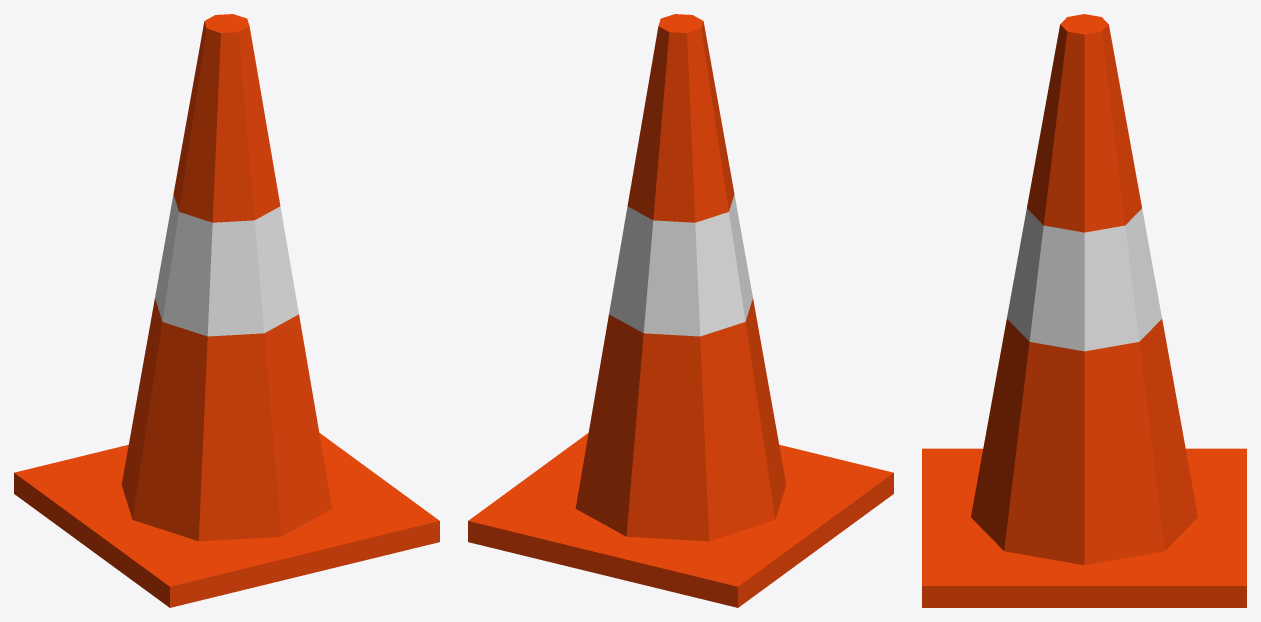
3 renders of one model, left to right at view 1: azimuth 30°, elevation 25°; view 2: azimuth 150°, elevation 25°; view 3: azimuth 270°, elevation 25°, orthographic. The views are drawn at different scales.
Visible parts, largest first — view 1: TrafficCone; view 2: TrafficCone; view 3: TrafficCone.
Part boxes in pixels (<box>): TrafficCone: <box>14,14,439,607</box>; TrafficCone: <box>468,14,893,607</box>; TrafficCone: <box>922,14,1246,607</box>.
Size of the model in its own units: 0.72 by 1.26 by 0.72.
